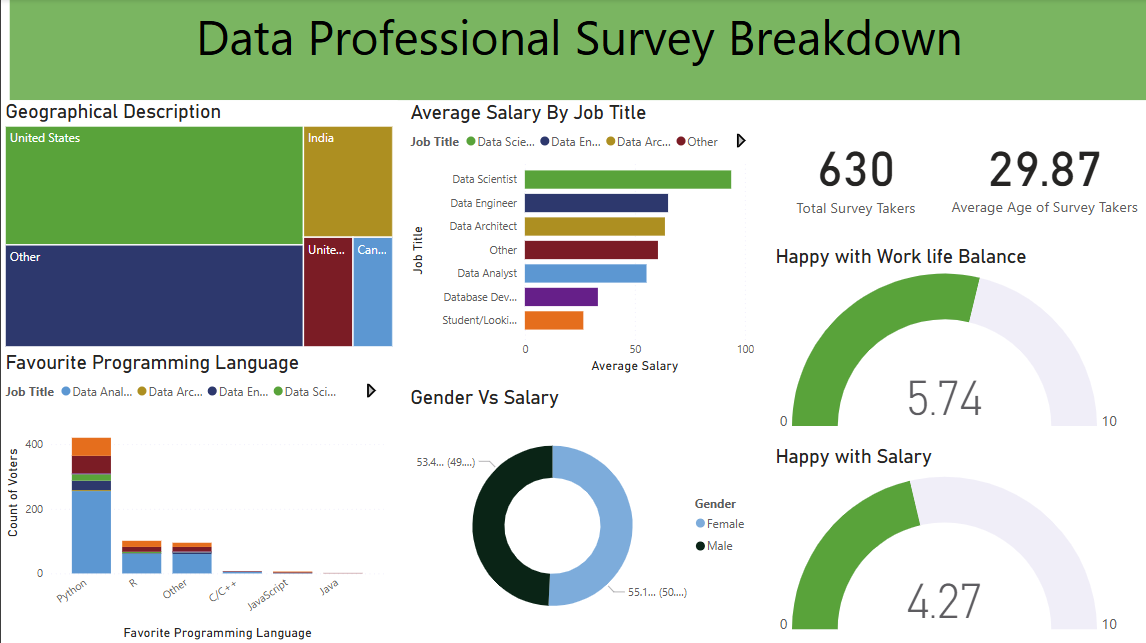

The dashboard page shown, as its layout file describes it:
{"tool":"powerbi","page":{"name":"Page 1","canvas":[1280,720],"ordinal":0},"visuals":[{"type":"textbox","box":[9.6,0,1270.7,112.5],"z":0},{"type":"card","fields":{"Values":["CountNonNull(Data Professional Survey.Unique ID)"]},"box":[859.1,118.5,189.7,150.6],"z":1},{"type":"card","fields":{"Values":["Avg(Data Professional Survey.Q10 - Current Age)"]},"box":[1048.8,122.7,231.5,140.9],"z":2},{"type":"barChart","title":"Average Salary By Job Title","fields":{"Category":["Data Professional Survey.Q1 - Which Title Best Fits your Current Role?.1"],"Y":["Avg(Data Professional Survey.Average Salary)"],"Series":["Data Professional Survey.Q1 - Which Title Best Fits your Current Role?.1"]},"box":[451.9,114.4,393.3,308.2],"z":3},{"type":"columnChart","title":"Favourite Programming Language","fields":{"Category":["Data Professional Survey.Q5 - Favorite Programming Language.1"],"Y":["CountNonNull(Data Professional Survey.Unique ID)"],"Series":["Data Professional Survey.Q1 - Which Title Best Fits your Current Role?.1"]},"box":[0,393.3,432.3,326.3],"z":4},{"type":"treemap","title":"Geographical Description","fields":{"Group":["Data Professional Survey.Q11 - Which Country do you live in?.1"],"Values":["CountNonNull(Data Professional Survey.Q11 - Which Country do you live in?.1)"]},"box":[0,113,442.1,280.3],"z":5},{"type":"gauge","title":"Happy with Work life Balance","fields":{"Y":["Avg(Data Professional Survey.Q6 - How Happy are you in your Current Position with the following? (Work/Life Balance))"],"MinValue":["Min(Data Professional Survey.Q6 - How Happy are you in your Current Position with the following? (Work/Life Balance))1"],"MaxValue":["Max(Data Professional Survey.Q6 - How Happy are you in your Current Position with the following? (Work/Life Balance))2"]},"box":[859.1,274.7,396.1,214.8],"z":6},{"type":"gauge","title":"Happy with Salary ","fields":{"Y":["Avg(Data Professional Survey.Q6 - How Happy are you in your Current Position with the following? (Salary))"],"MinValue":["Min(Data Professional Survey.Q6 - How Happy are you in your Current Position with the following? (Salary))"],"MaxValue":["Max(Data Professional Survey.Q6 - How Happy are you in your Current Position with the following? (Salary))"]},"box":[859.1,497.9,396.1,221.7],"z":7},{"type":"donutChart","title":"Gender Vs Salary","fields":{"Category":["Data Professional Survey.Q9 - Male/Female?"],"Y":["Avg(Data Professional Survey.Average Salary)"]},"box":[451.9,432.3,393.3,287.3],"z":8}]}

Visuals, with their boxes in screenshot pixels (x1, y1, x2, y2), scaled from the page's 1280x720 canvas onto the 1146x643 screenshot:
textbox: BBox(9, 0, 1145, 100)
card - CountNonNull(Data Professional Survey.Unique ID): BBox(769, 106, 939, 240)
card - Avg(Data Professional Survey.Q10 - Current Age): BBox(939, 110, 1145, 235)
"Average Salary By Job Title" barChart: BBox(405, 102, 757, 377)
"Favourite Programming Language" columnChart: BBox(0, 351, 387, 642)
"Geographical Description" treemap: BBox(0, 101, 396, 351)
"Happy with Work life Balance" gauge: BBox(769, 245, 1124, 437)
"Happy with Salary " gauge: BBox(769, 445, 1124, 642)
"Gender Vs Salary" donutChart: BBox(405, 386, 757, 642)
